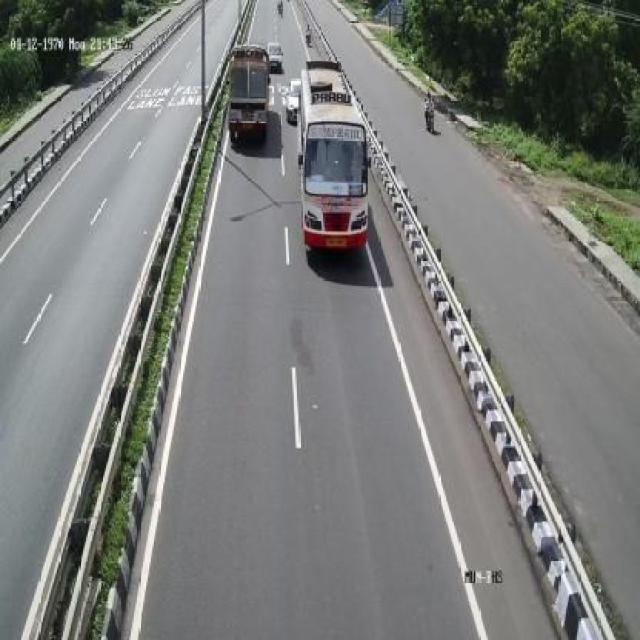car: (282, 72, 303, 120)
